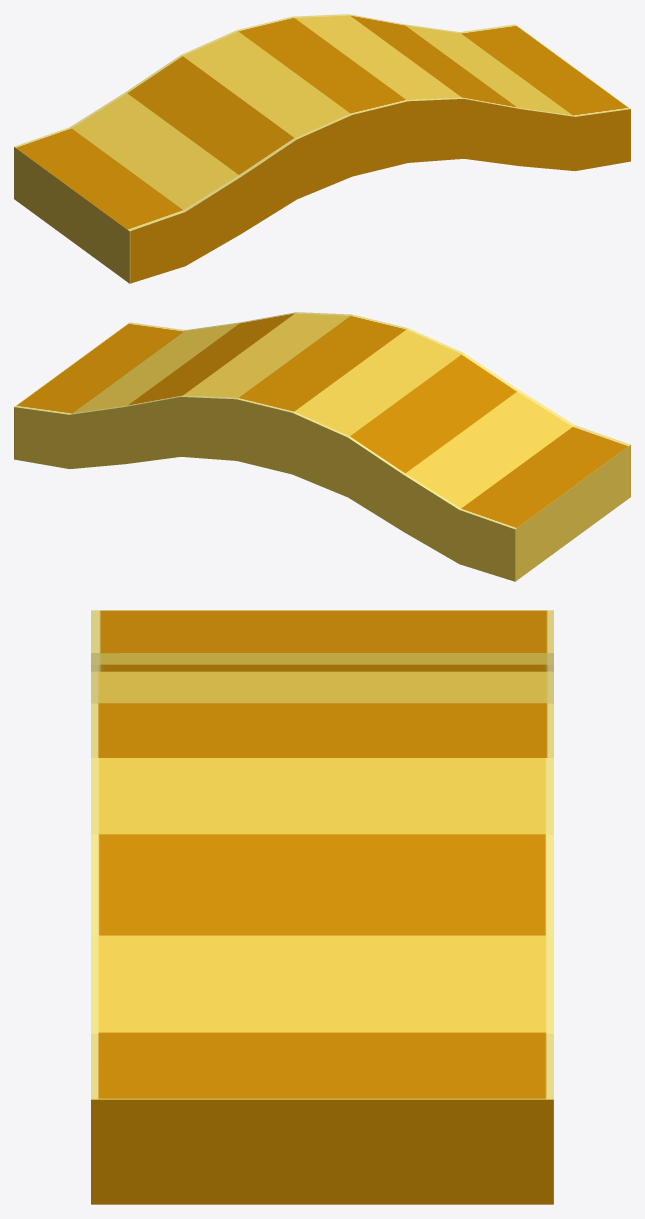
The model's file is zemin2.fbx.
3 views of the same model, one above another, from view 1: azimuth 30°, elevation 25°; view 2: azimuth 150°, elevation 25°; view 3: azimuth 270°, elevation 25° (orthographic). The views are drawn at different scales.
Visible parts, largest first — view 1: Cube.001; view 2: Cube.001; view 3: Cube.001.
Part boxes in pixels (bbox=[...]): Cube.001: bbox=[14, 14, 630, 283]; Cube.001: bbox=[14, 312, 630, 581]; Cube.001: bbox=[91, 610, 553, 1204].
Size of the model in its own units: 2000 by 437 by 800.
